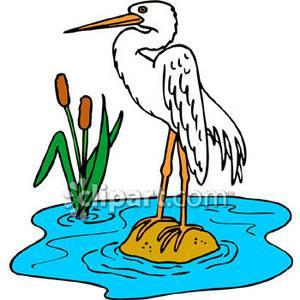bird: (57, 1, 248, 253)
